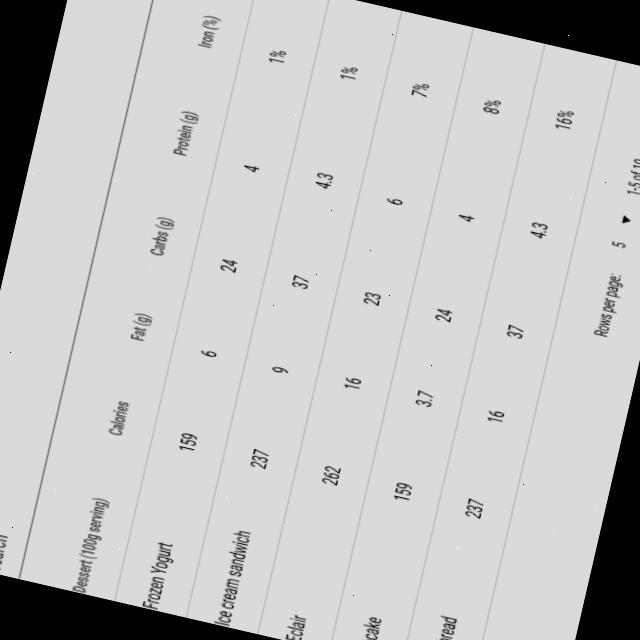VDataTable: (43, 0, 640, 640)
VTextField: (0, 0, 161, 579)
